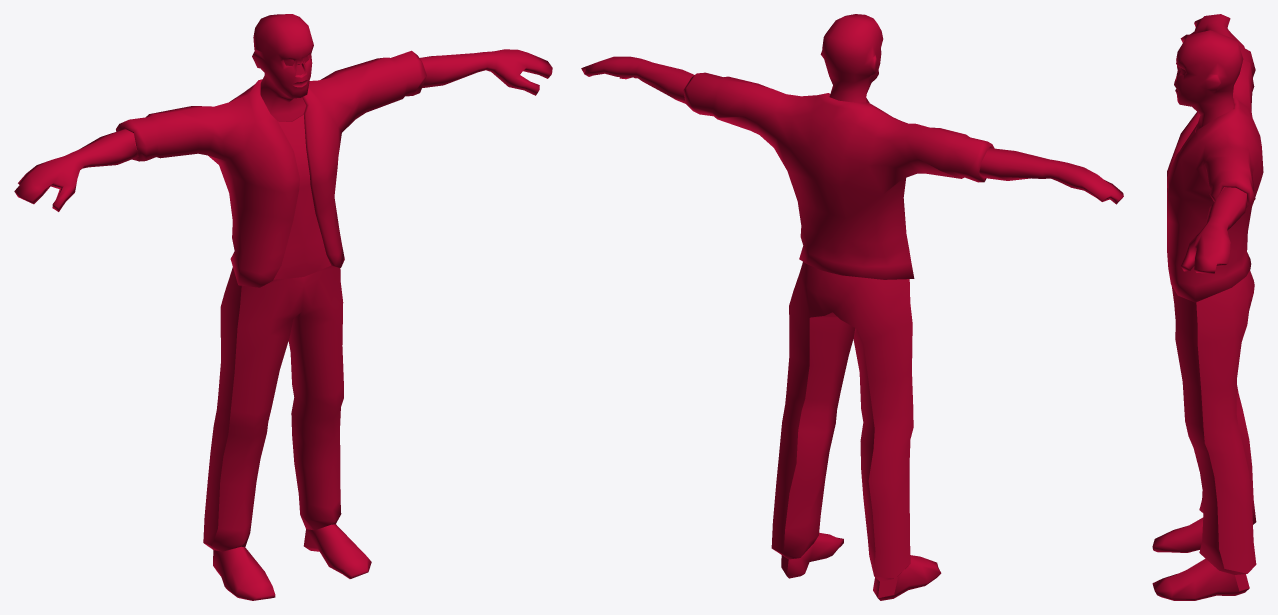
The model's file is zombie_01.fbx.
3 views of the same model, side by side, from view 1: azimuth 30°, elevation 25°; view 2: azimuth 150°, elevation 25°; view 3: azimuth 270°, elevation 25° (orthographic). The views are drawn at different scales.
Parts seen in each view (by area): view 1: Object022; view 2: Object022; view 3: Object022.
Part boxes in pixels (box(x1,y1,x2,y2)): Object022: box(14, 14, 552, 600); Object022: box(581, 14, 1123, 600); Object022: box(1152, 14, 1263, 600).
Size of the model in its own units: 183 by 181 by 33.95.
